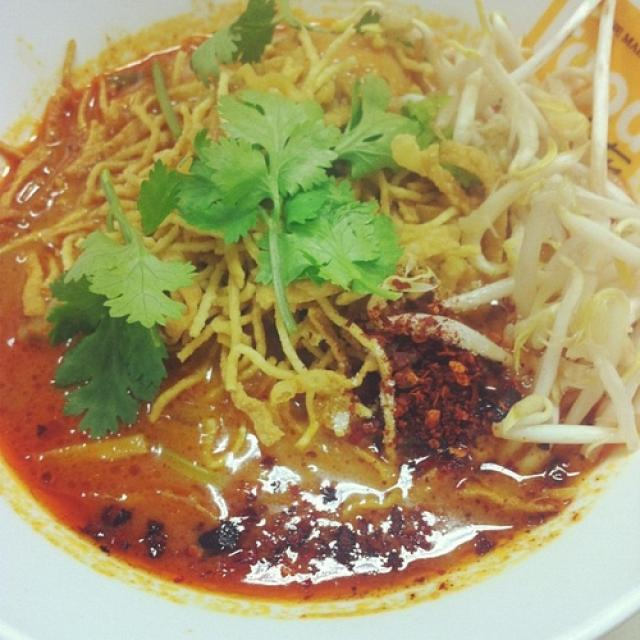面条主食: (19, 21, 635, 596)
